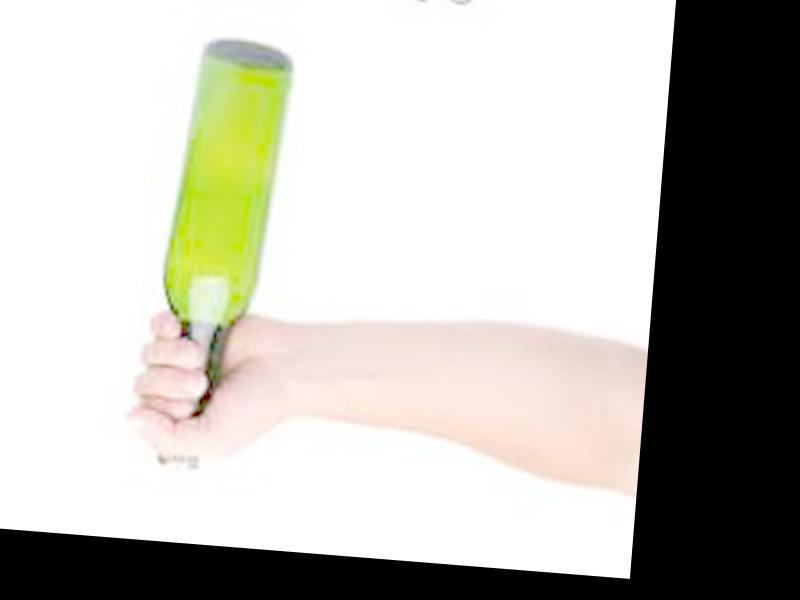Beer: (148, 35, 297, 473)
